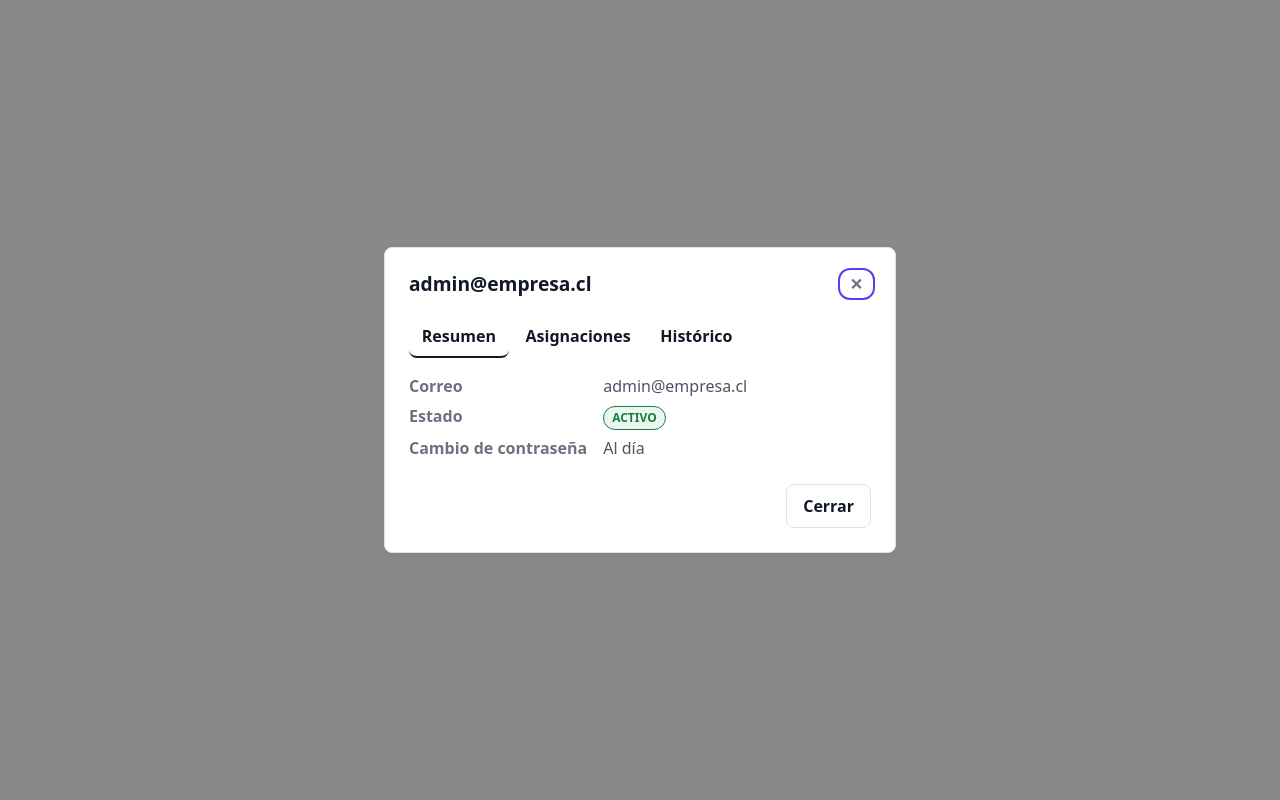
Scenario: UsuarioDetalle — nombre de la compañía (VF-011, RF-013) › la pestaña Asignaciones muestra el nombre de la compañía y conserva el alcance global
The width and height of the screenshot is (1280, 800).
Click the tab "Asignaciones". click: [578, 337]
box: [513,316,644,358]
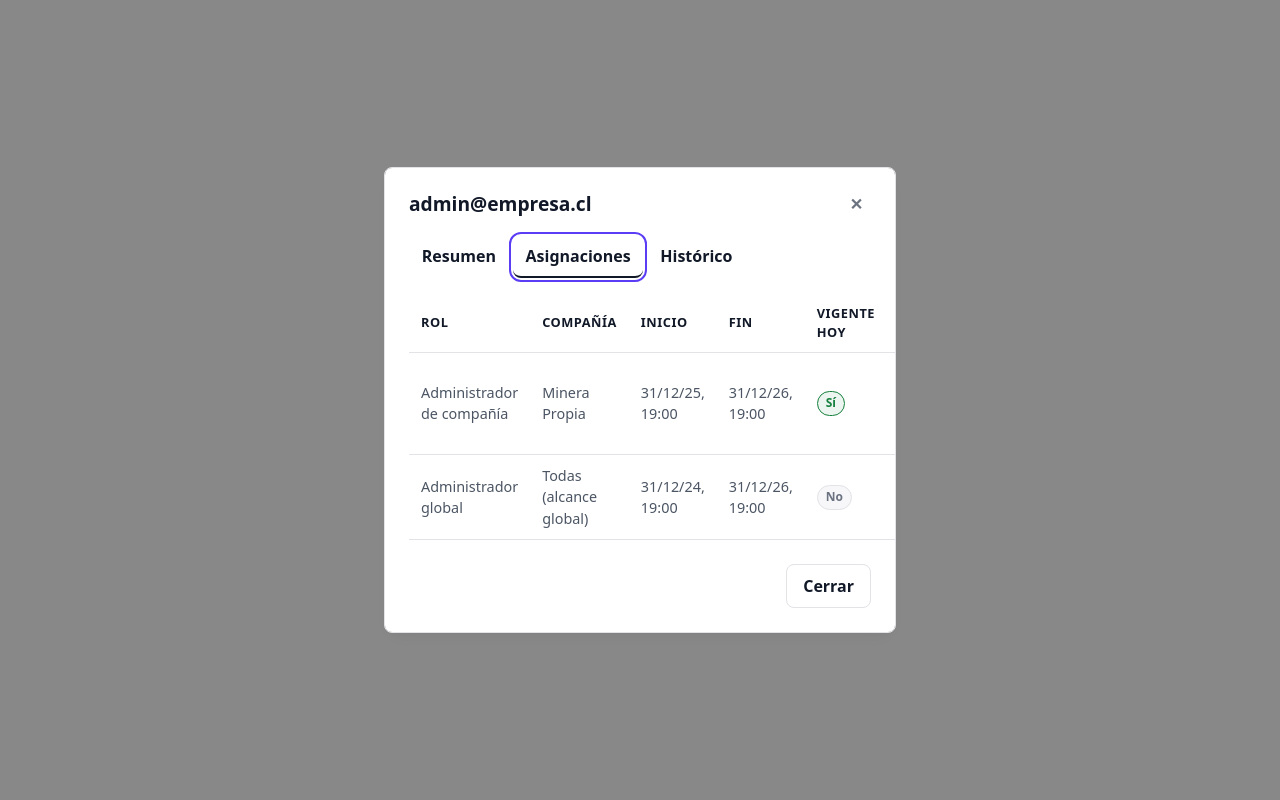
Expected: the text "Minera Propia" is shown, [530,353,629,455]
Expected: the text "Todas (alcance global)" is shown, [530,455,629,540]
